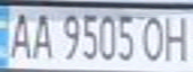0: (97, 10, 118, 62)
5: (115, 10, 139, 62), (78, 10, 100, 61)
9: (57, 10, 81, 62)
A: (3, 8, 36, 61), (27, 9, 57, 61)
H: (160, 12, 193, 63)
O: (139, 11, 169, 63)
